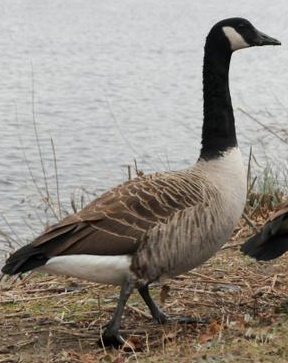goose: (3, 12, 288, 347)
